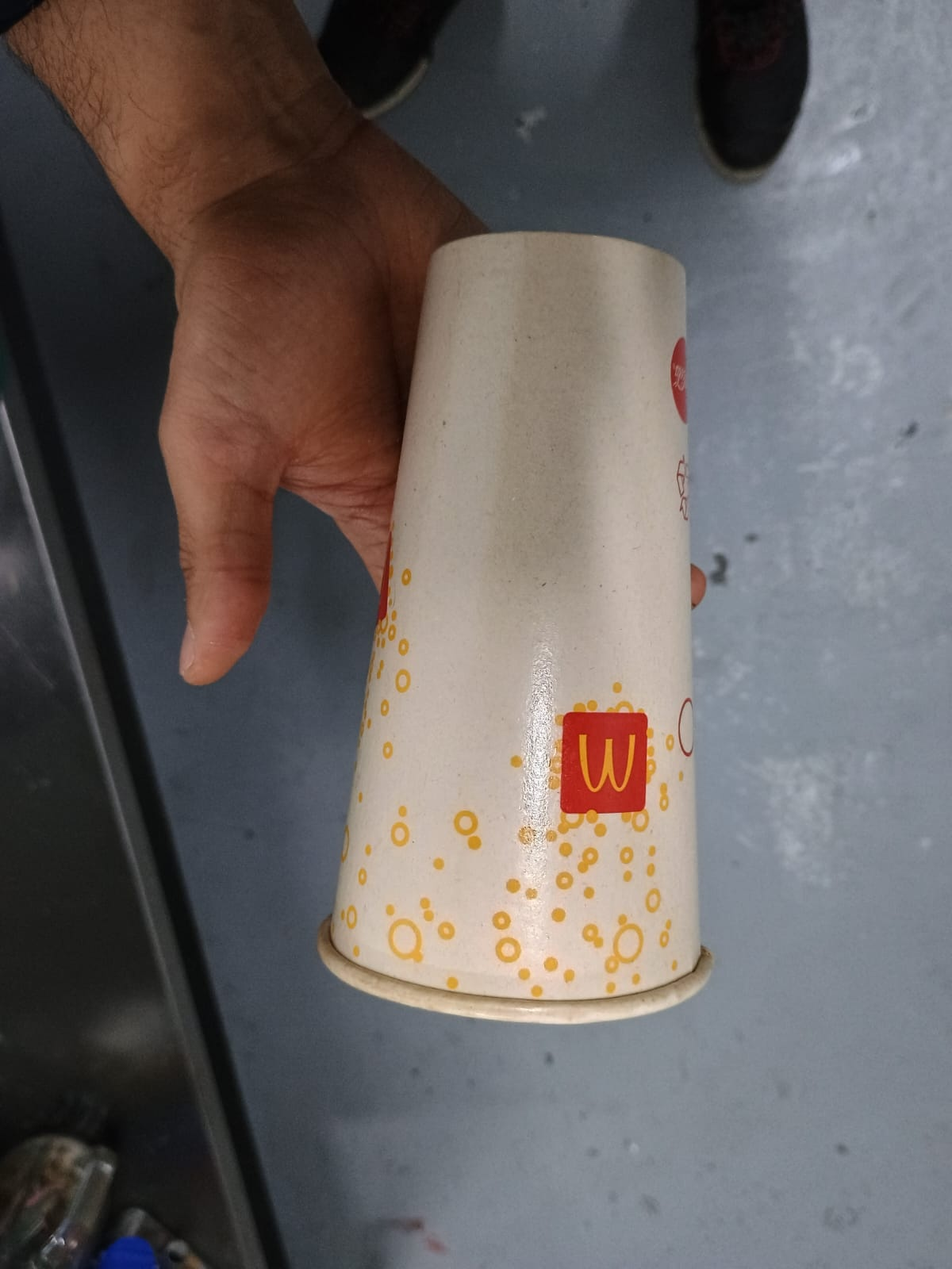Carton: (312, 230, 712, 1025)
